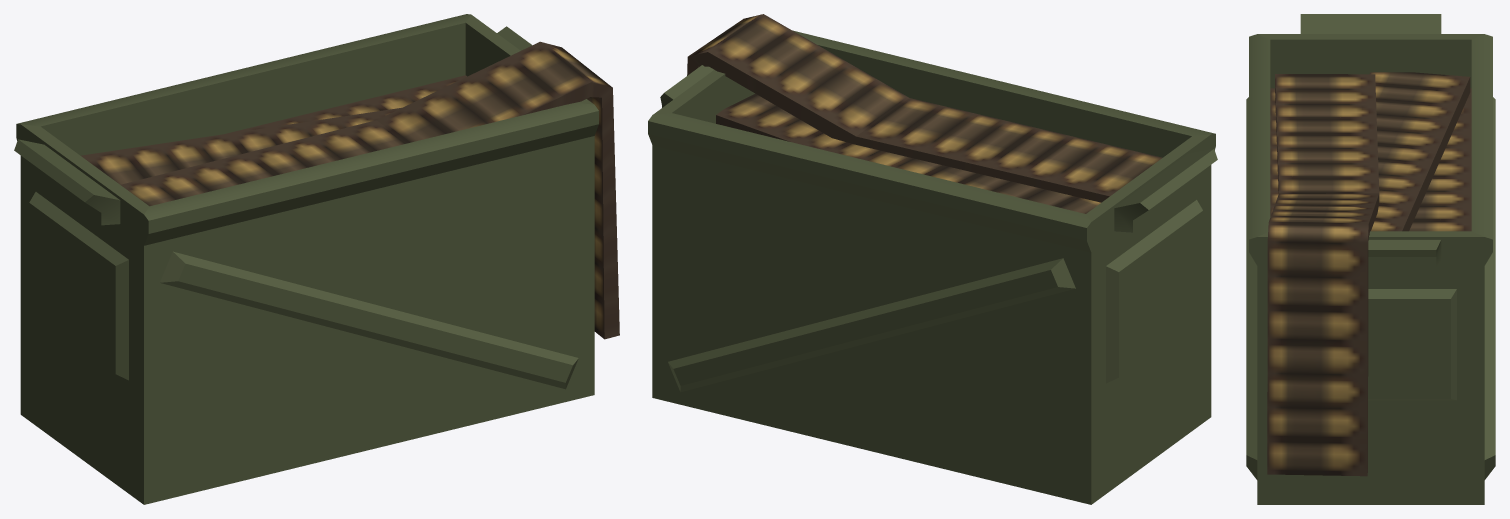
Rendered from SM_Prop_AmmoBox_04.fbx.
3 views of the same model, side by side, from view 1: azimuth 30°, elevation 25°; view 2: azimuth 150°, elevation 25°; view 3: azimuth 270°, elevation 25° (orthographic). The views are drawn at different scales.
Parts seen in each view (by area): view 1: SM_Prop_AmmoBox_04; view 2: SM_Prop_AmmoBox_04; view 3: SM_Prop_AmmoBox_04.
Boxes of the visible parts, x1,y1,x2,y2 form: SM_Prop_AmmoBox_04: (14, 14, 619, 504); SM_Prop_AmmoBox_04: (648, 14, 1217, 504); SM_Prop_AmmoBox_04: (1246, 14, 1495, 504).
Size of the model in its own units: 54.11 by 30.7 by 24.4.
